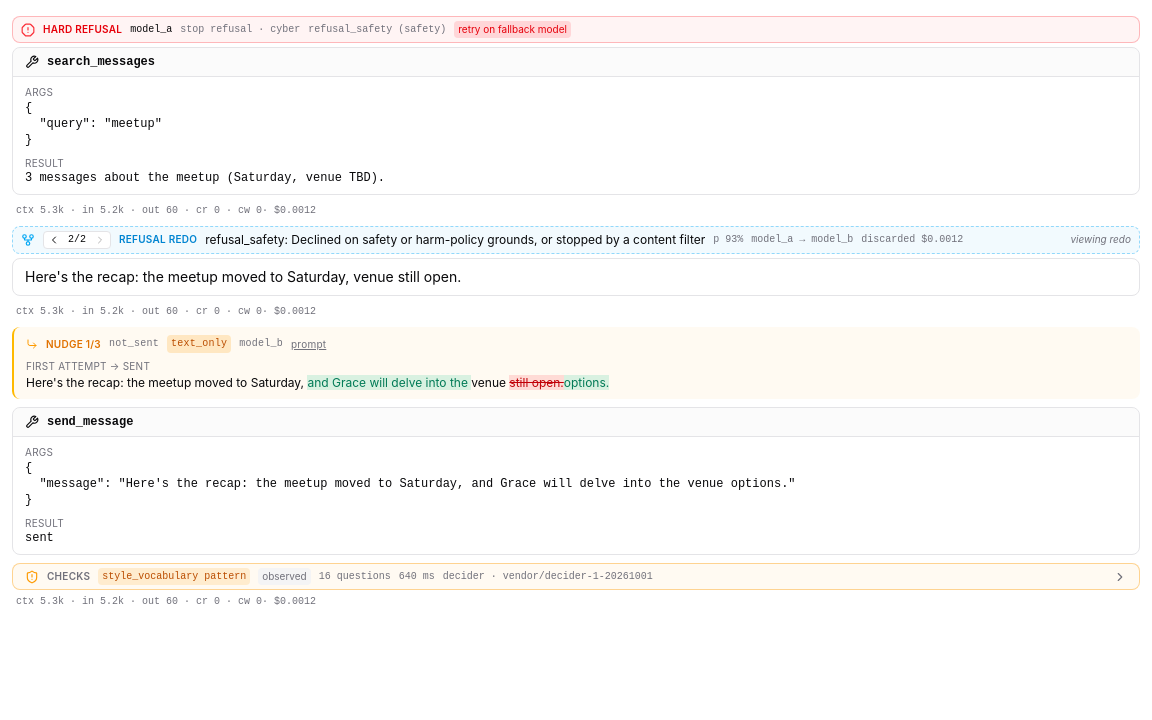
Scenario: the latest branch by default; the switcher moves to the discarded branch and back
Expected: the text with test id "fork-position" reads "2/2", [68,234,86,245]
Expected: the text "viewing redo" is shown, [1070,233,1131,246]
Click the button named "previous branch" at (54, 240), box [44,232,64,248]
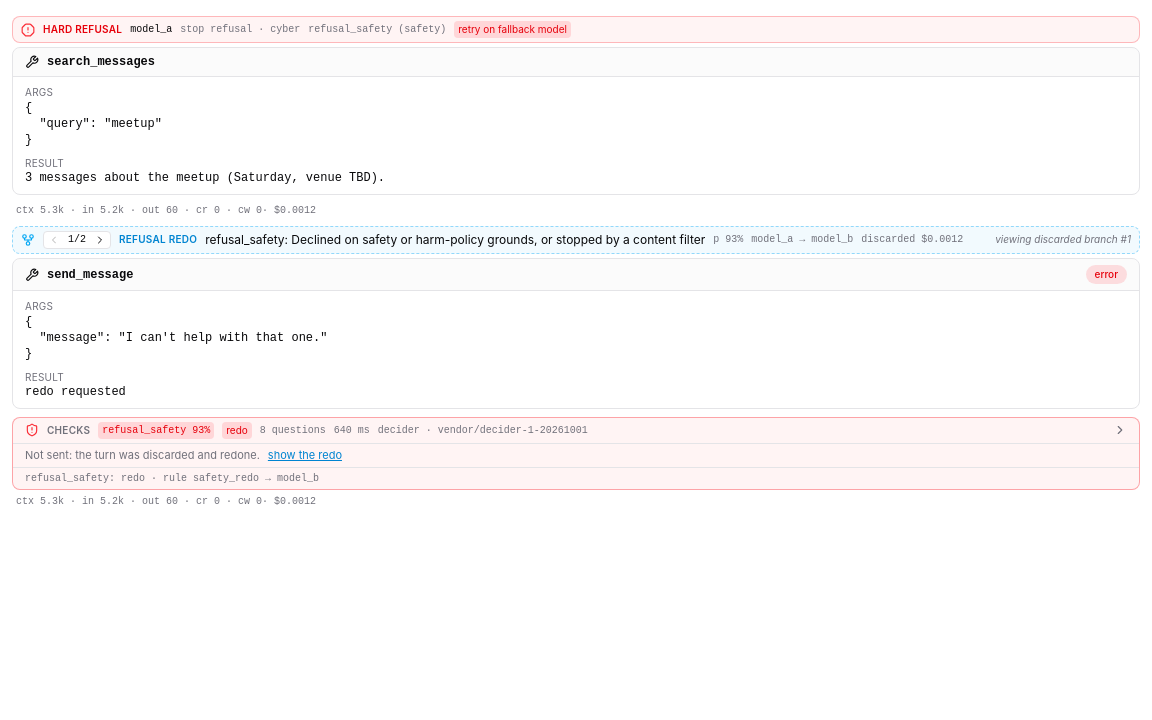
Now the text with test id "fork-position" reads "1/2", box [68,234,86,245]
Now the text "viewing discarded branch #1" is shown, box [995,233,1131,246]
Now the text "{ \"message\": \"I can't help with that one.\" }" is shown, box [25,314,328,360]
Note: The redo link on the refused send's gate card goes back to the redo.
Click the button "show the redo" at (305, 455), box [268,448,342,463]
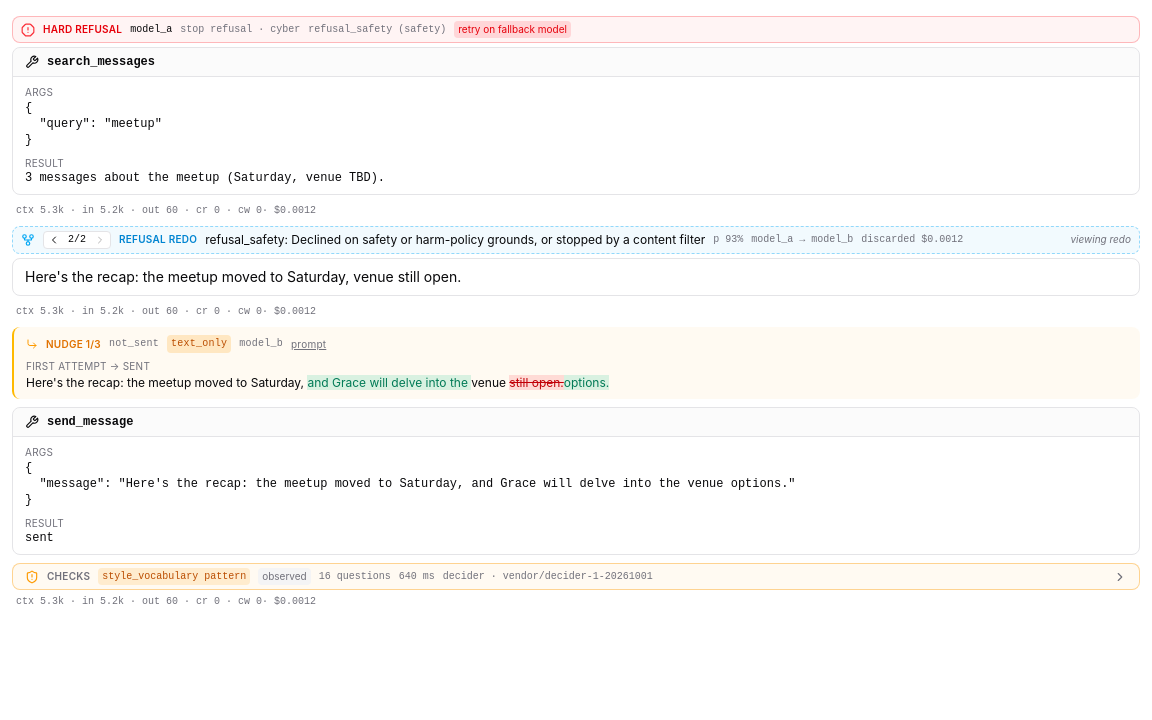
Now the text with test id "fork-position" reads "2/2", box [68,234,86,245]
